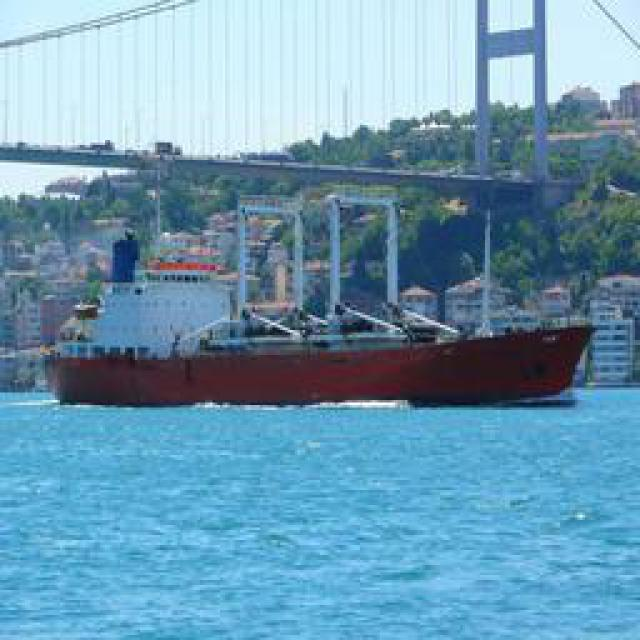Ship: (44, 284, 617, 414)
